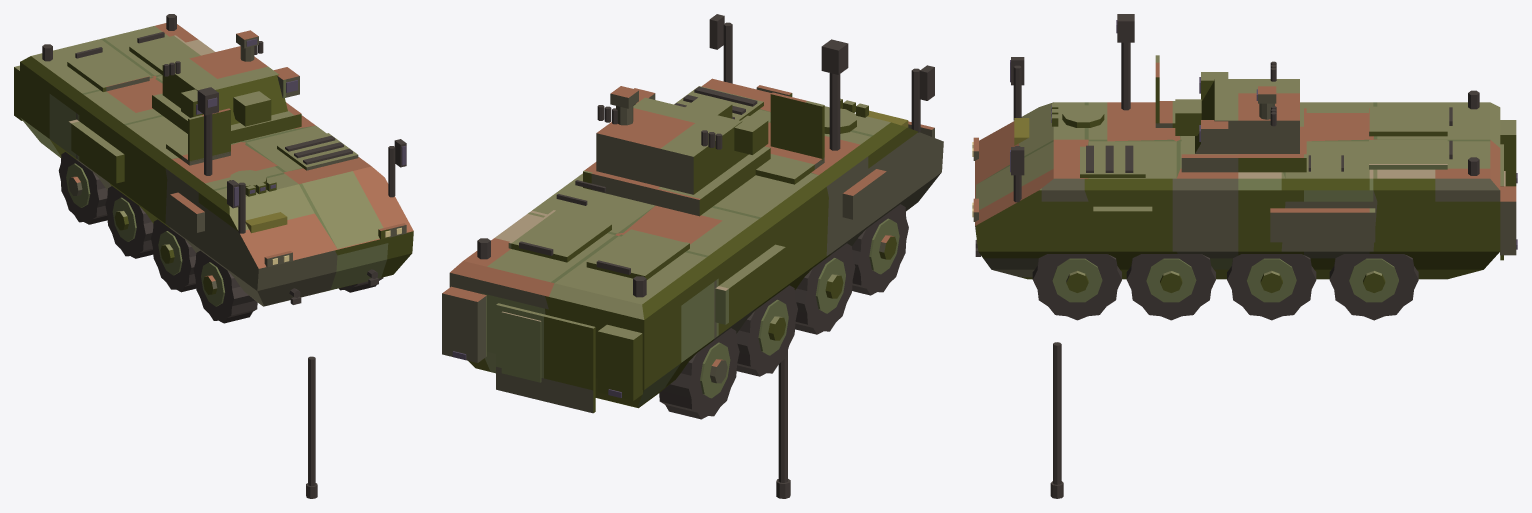
The model's file is SM_VCR_Dragon_Animable_v0_Boscoso_LOD0.fbx.
3 views of the same model, side by side, from view 1: azimuth 30°, elevation 25°; view 2: azimuth 150°, elevation 25°; view 3: azimuth 270°, elevation 25° (orthographic). The views are drawn at different scales.
Visible parts, largest first — view 1: SM_bloques.dragon_animable_v0_LOD0, Torre, Rueda_1R, Rueda_4R, Rueda_3R, Rueda_2R, Canon; view 2: SM_bloques.dragon_animable_v0_LOD0, Torre, Rueda_4R, Rueda_3R, Rueda_2R, Rueda_1R, Canon; view 3: SM_bloques.dragon_animable_v0_LOD0, Torre, Rueda_3L, Rueda_2L, Rueda_4L, Rueda_1L, Canon.
Part boxes in pixels (<box>): SM_bloques.dragon_animable_v0_LOD0: <box>14,14,413,306</box>; Torre: <box>152,30,301,143</box>; Rueda_1R: <box>193,250,257,323</box>; Rueda_4R: <box>58,152,107,224</box>; Rueda_3R: <box>105,186,153,258</box>; Rueda_2R: <box>151,219,196,292</box>; Canon: <box>306,356,317,498</box>; SM_bloques.dragon_animable_v0_LOD0: <box>442,14,943,413</box>; Torre: <box>583,86,770,216</box>; Rueda_4R: <box>659,328,739,419</box>; Rueda_3R: <box>736,285,797,376</box>; Rueda_2R: <box>795,243,855,334</box>; Rueda_1R: <box>852,204,908,295</box>; Canon: <box>776,350,790,498</box>; SM_bloques.dragon_animable_v0_LOD0: <box>972,14,1517,279</box>; Torre: <box>1175,61,1306,172</box>; Rueda_3L: <box>1227,254,1316,320</box>; Rueda_2L: <box>1126,254,1215,320</box>; Rueda_4L: <box>1329,254,1418,320</box>; Rueda_1L: <box>1032,254,1121,320</box>; Canon: <box>1050,342,1063,498</box>.
Size of the model in its own units: 3.36 by 7.39 by 8.31.
